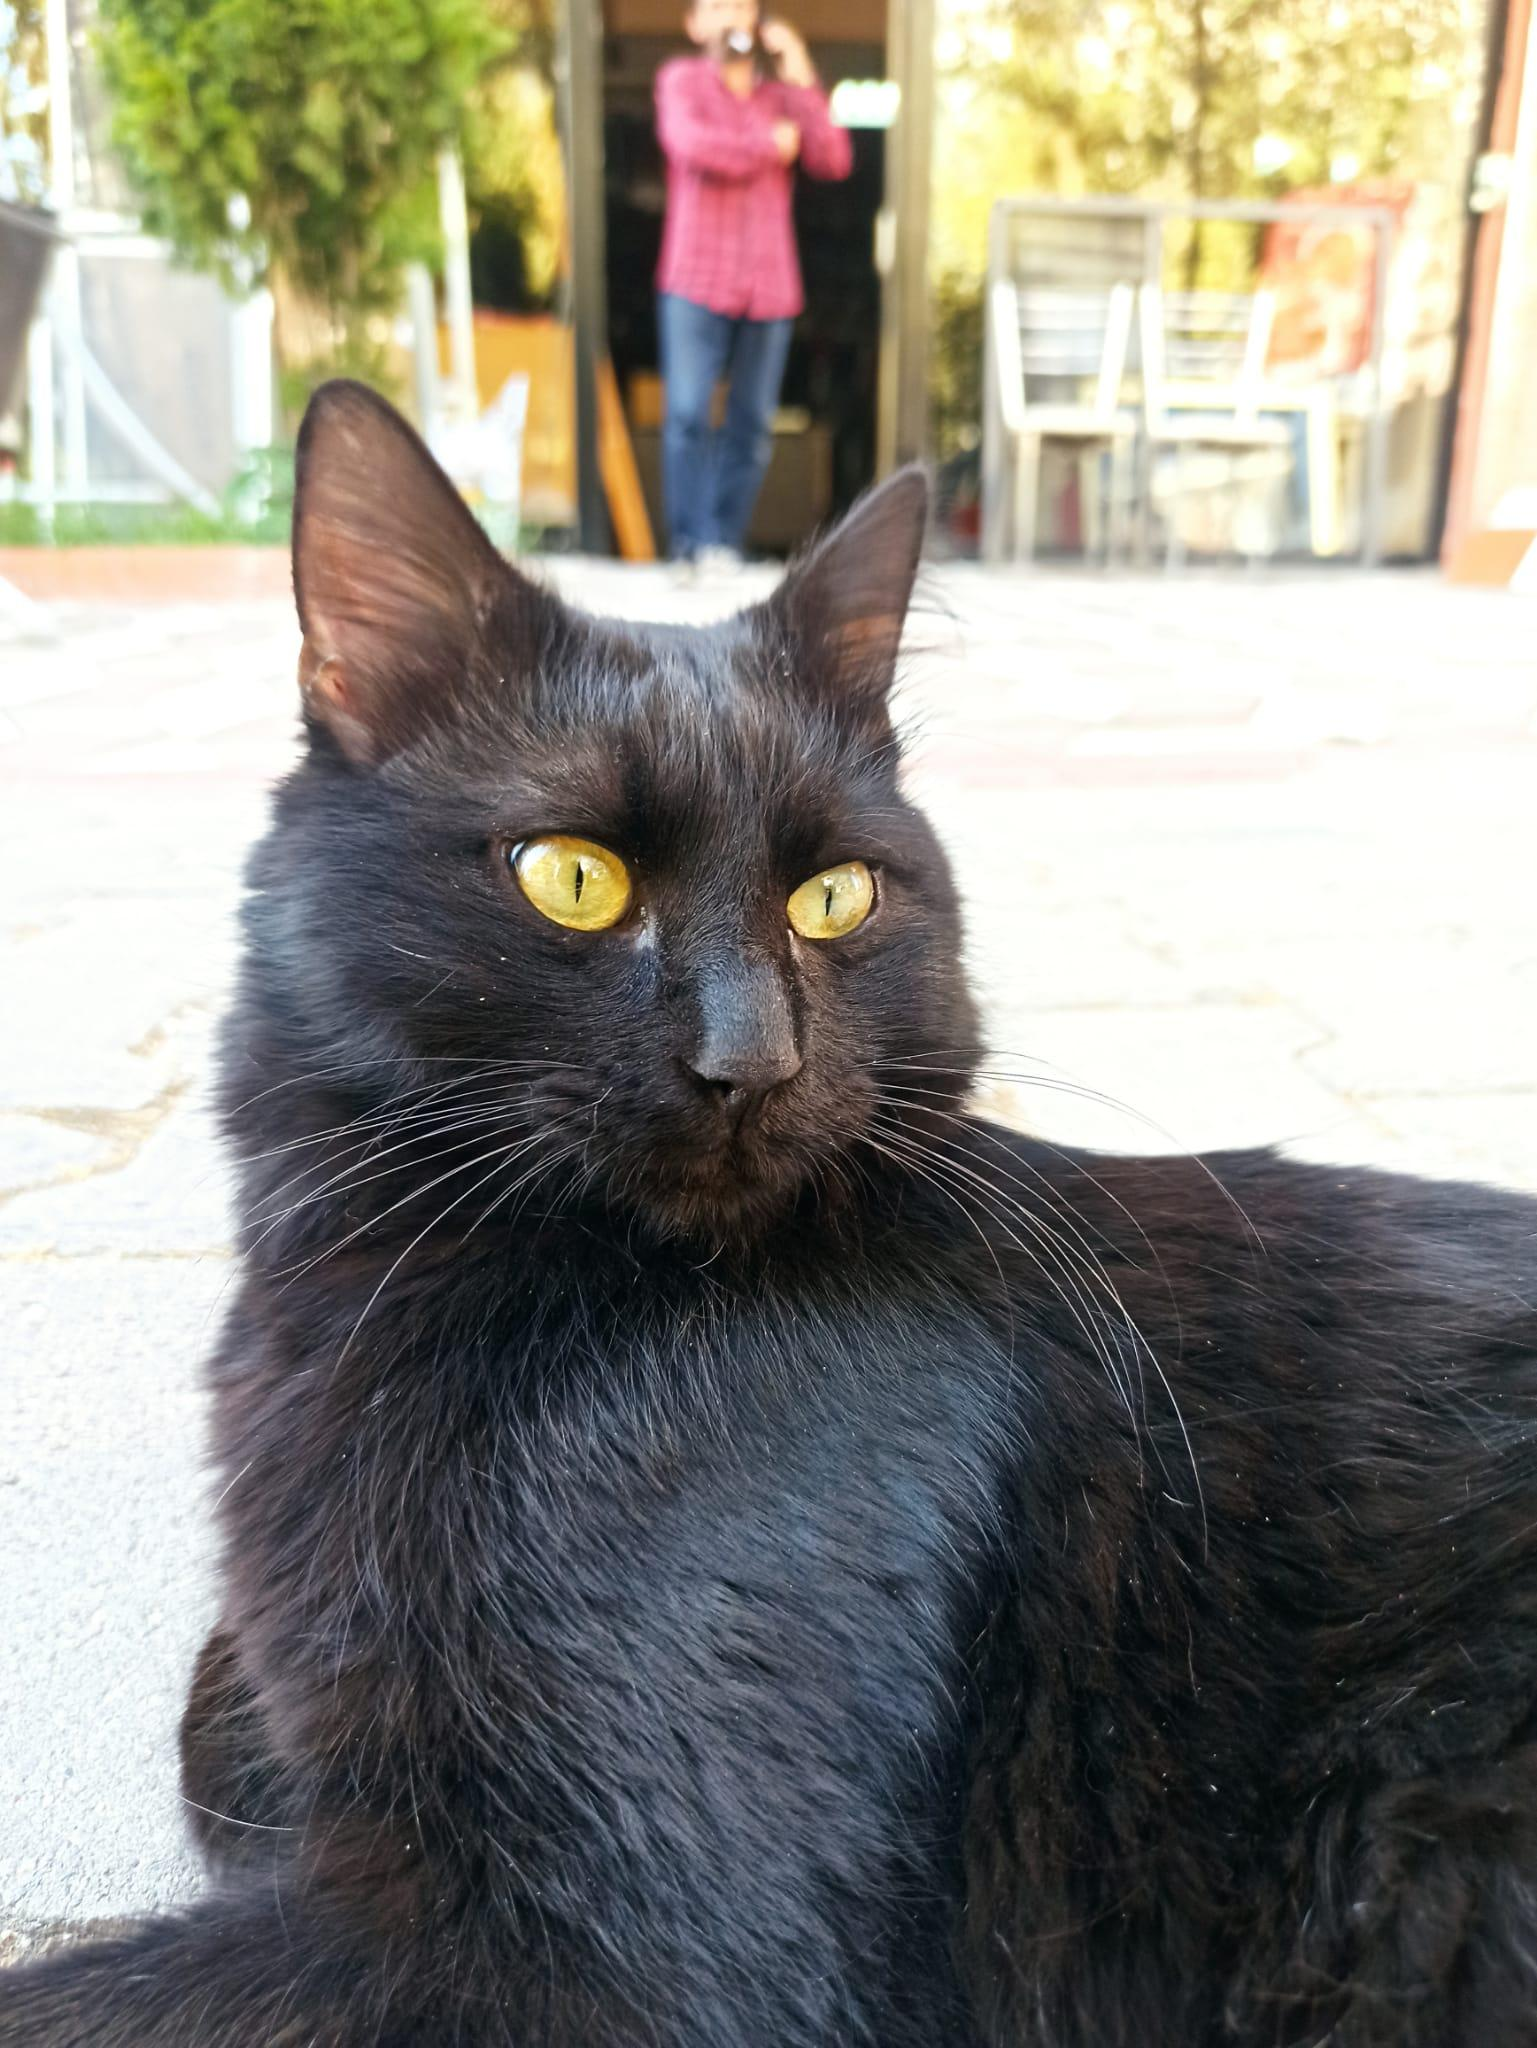kedo: (236, 387, 1535, 2048)
